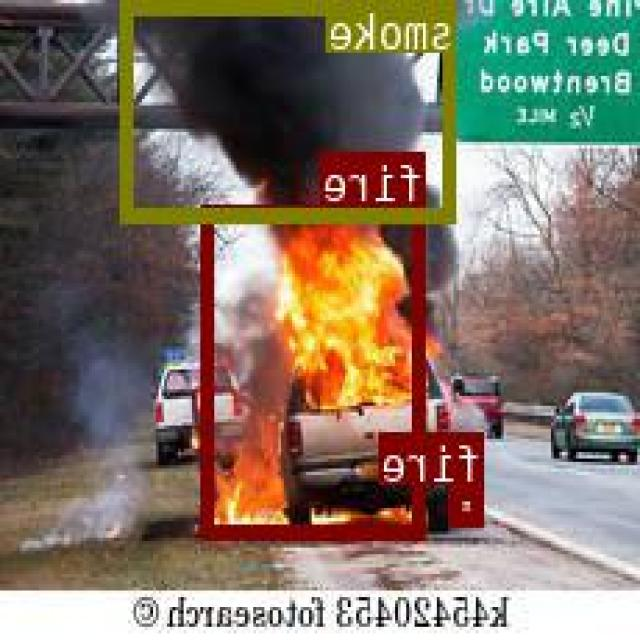fire: (205, 204, 426, 534), (453, 482, 486, 522)
smoke: (124, 0, 458, 221)
